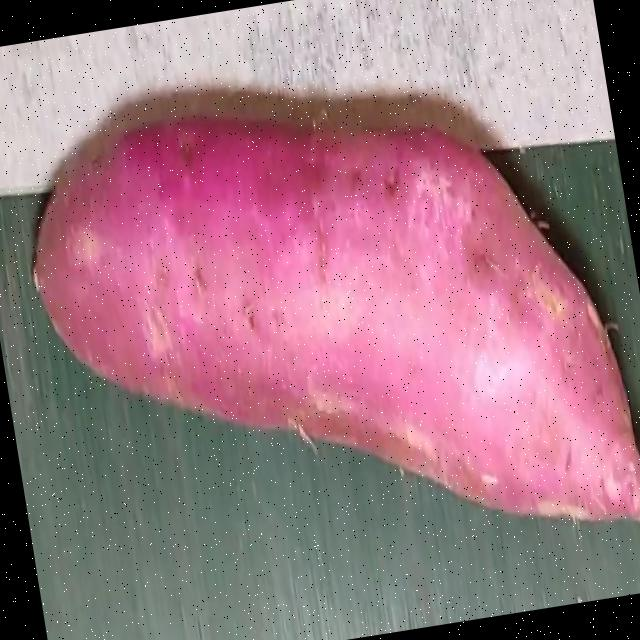Sweet Potato: (28, 114, 640, 526)
